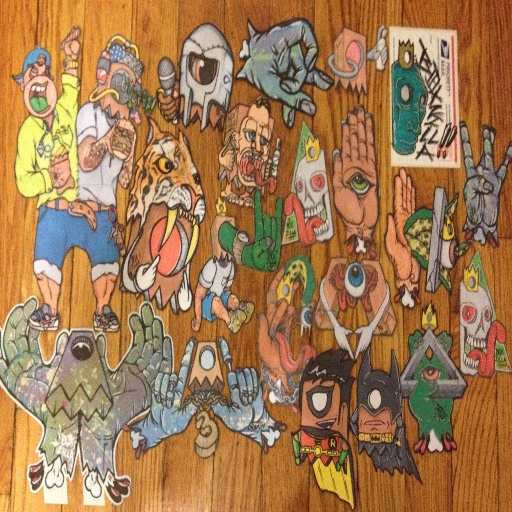hand: (78, 298, 173, 443), (237, 17, 333, 127), (0, 295, 69, 422), (330, 99, 377, 228), (206, 336, 265, 432), (462, 121, 511, 232), (148, 336, 198, 436), (383, 164, 420, 291), (255, 270, 299, 376), (249, 188, 283, 272), (156, 81, 179, 119), (135, 253, 157, 290), (333, 325, 355, 358), (47, 157, 70, 188), (177, 269, 192, 312), (354, 324, 372, 358), (63, 25, 80, 60), (103, 118, 118, 154), (124, 131, 135, 162), (259, 155, 272, 178), (372, 46, 389, 63), (221, 149, 234, 171), (191, 314, 200, 333)
